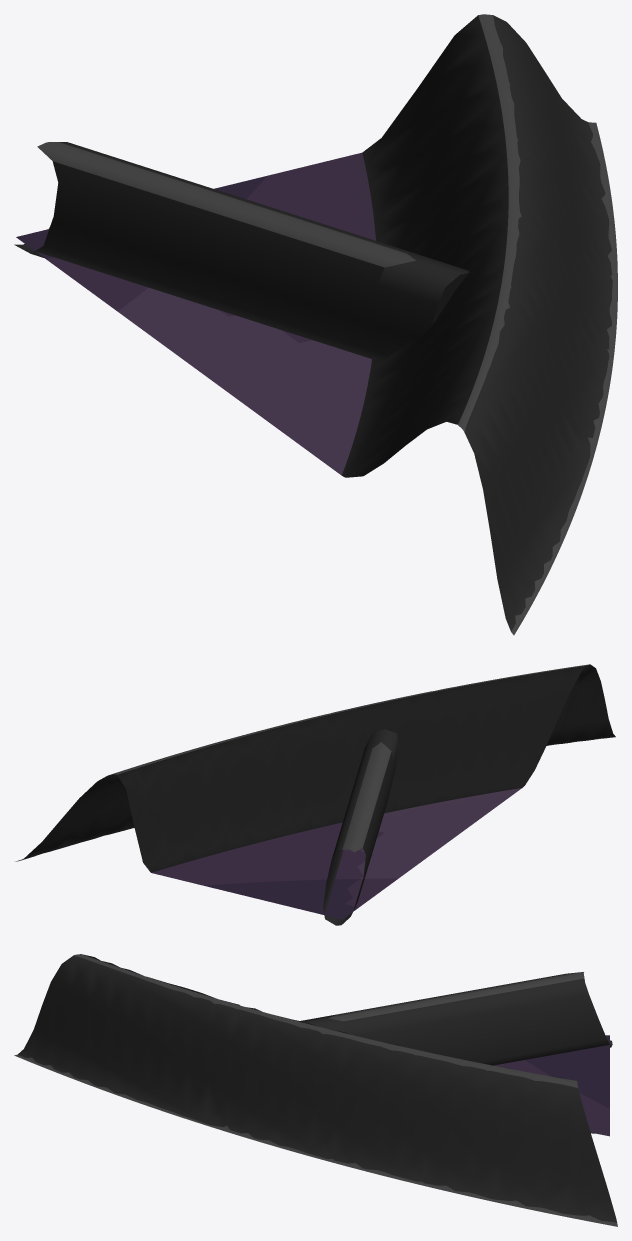
The model's file is coral_citadel_131.glb.
The picture shows the model from 3 angles, top to bottom: view 1: azimuth 30°, elevation 25°; view 2: azimuth 150°, elevation 25°; view 3: azimuth 270°, elevation 25°; orthographic projection. The views are drawn at different scales.
Visible parts, largest first — view 1: coral_citadel_131; view 2: coral_citadel_131; view 3: coral_citadel_131.
Part boxes in pixels (x1,y1,x2,y2): coral_citadel_131: [14, 14, 617, 635]; coral_citadel_131: [15, 664, 615, 925]; coral_citadel_131: [14, 954, 617, 1226].
Bounding box in the file's own units: 18.11 × 5 × 26.97.
